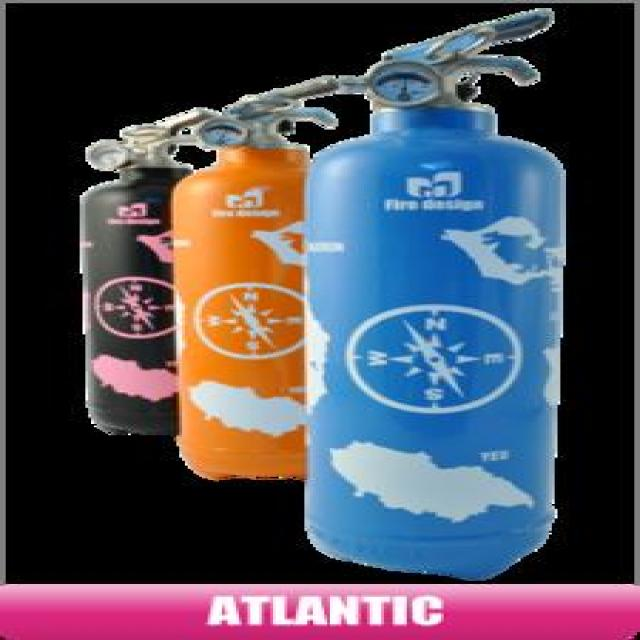fire_extinguisher: (296, 3, 574, 581), (161, 70, 360, 485), (72, 107, 240, 437)
